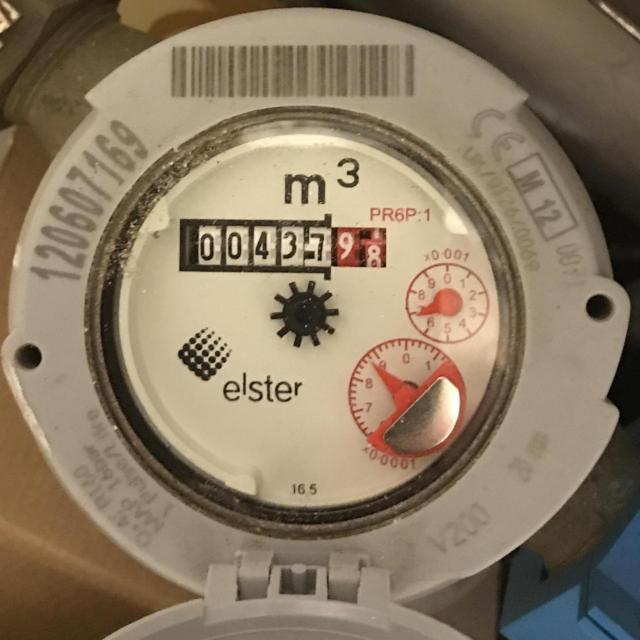gaz_meter: (12, 7, 633, 599)
indication: (191, 214, 387, 272)
